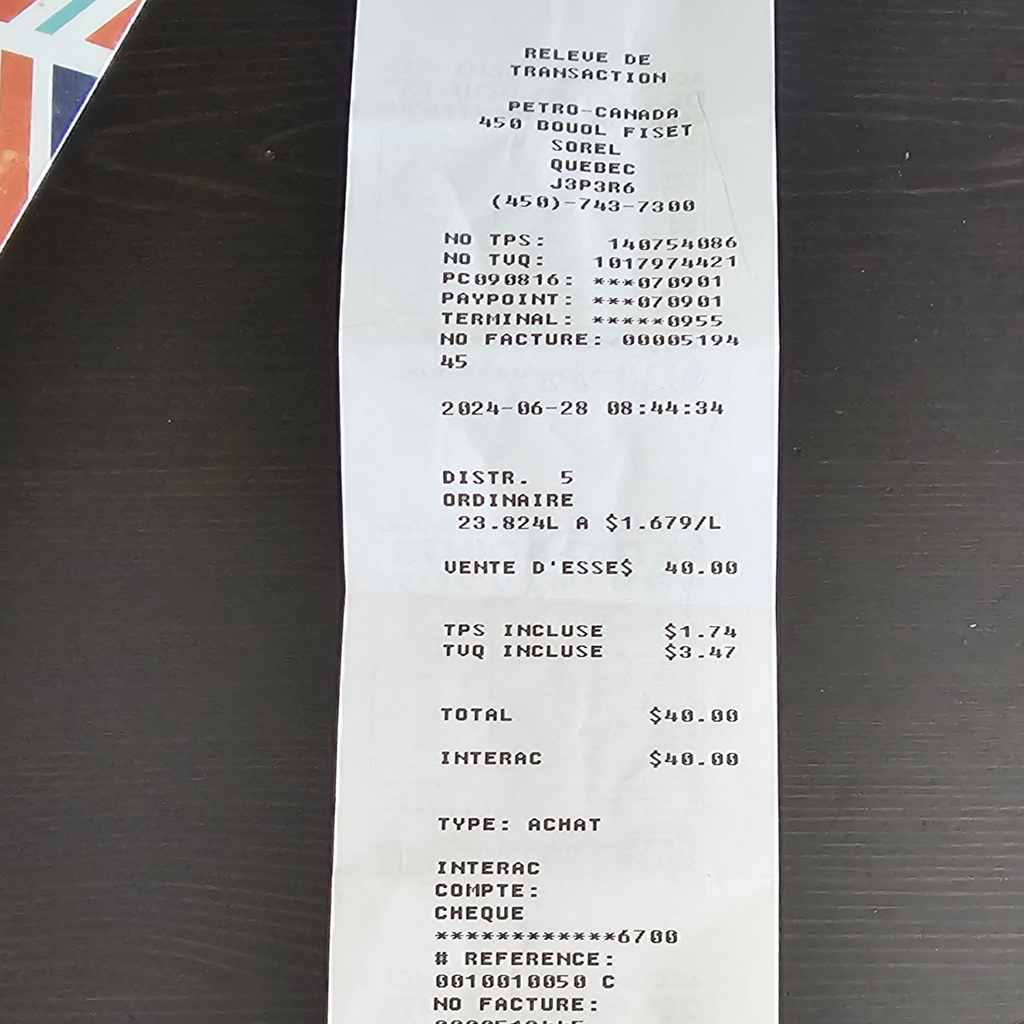recipt: (327, 0, 781, 1022)
